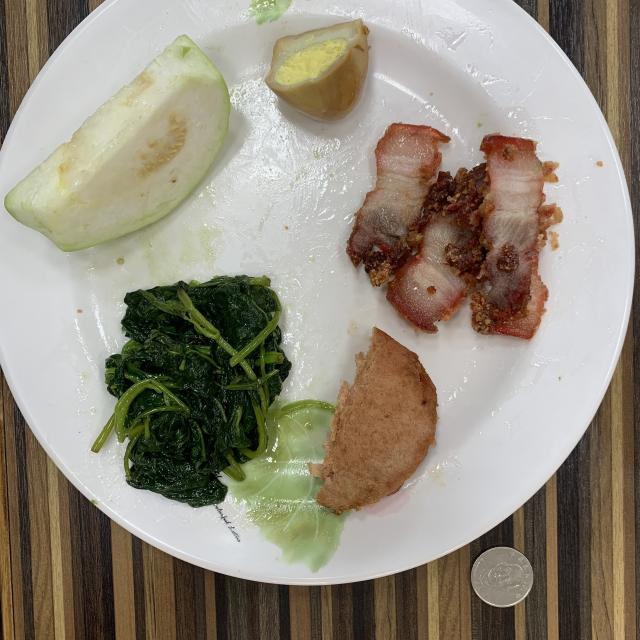Spam: (311, 328, 438, 512)
coin: (471, 546, 534, 608)
guava -sliced-: (5, 35, 230, 251)
red grilled pork: (348, 124, 562, 339)
soy egg: (265, 19, 369, 121)
sweet potato leaves: (92, 275, 291, 508)
